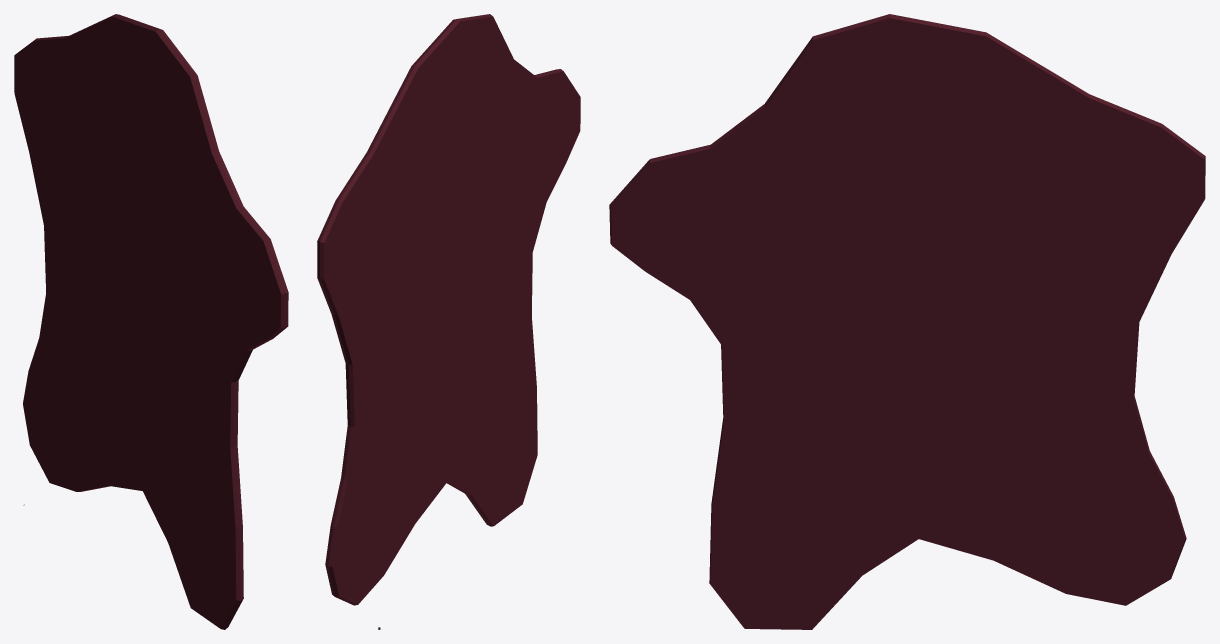
The model's file is @Tag.Fluid.obj.
The picture shows the model from 3 angles, left to right: view 1: azimuth 30°, elevation 25°; view 2: azimuth 150°, elevation 25°; view 3: azimuth 270°, elevation 25°; orthographic projection. The views are drawn at different scales.
Parts seen in each view (by area): view 1: Fluid.1; view 2: Fluid.1; view 3: Fluid.1.
Boxes of the visible parts, x1,y1,x2,y2 form: Fluid.1: (14, 14, 288, 629); Fluid.1: (317, 14, 580, 629); Fluid.1: (609, 14, 1205, 629).
Size of the model in its own units: 11.67 by 192 by 168.
2 materials, 2 textured.
